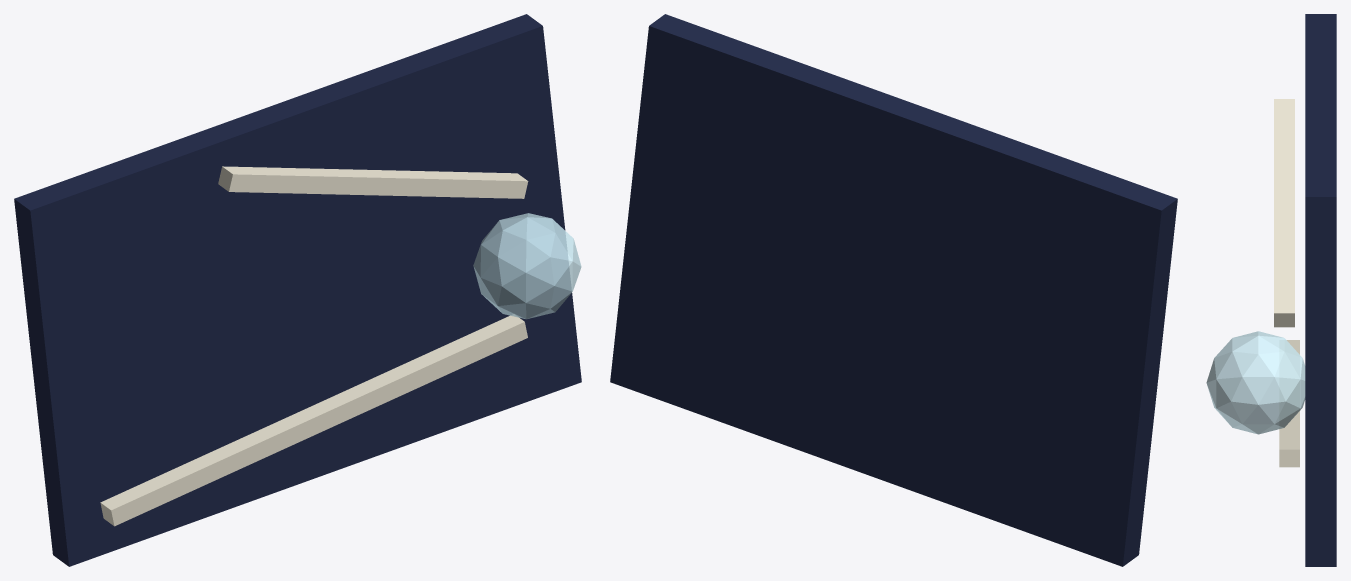
Rendered from 02_world_prop_polish.glb.
3 renders of one model, left to right at view 1: azimuth 30°, elevation 25°; view 2: azimuth 150°, elevation 25°; view 3: azimuth 270°, elevation 25°, orthographic. The views are drawn at different scales.
Parts seen in each view (by area): view 1: object_overlay_plate, edge_wear_a, glow_socket, edge_wear_b; view 2: object_overlay_plate; view 3: object_overlay_plate, glow_socket, edge_wear_b, edge_wear_a.
Part boxes in pixels (bbox=[...]): object_overlay_plate: bbox=[14, 14, 581, 566]; edge_wear_a: bbox=[100, 315, 527, 526]; glow_socket: bbox=[473, 213, 581, 319]; edge_wear_b: bbox=[218, 166, 528, 198]; object_overlay_plate: bbox=[610, 14, 1177, 566]; object_overlay_plate: bbox=[1305, 14, 1336, 566]; glow_socket: bbox=[1206, 331, 1305, 434]; edge_wear_b: bbox=[1274, 99, 1294, 327]; edge_wear_a: bbox=[1279, 340, 1299, 467].
Bounding box in the file's own units: 1.18 × 0.867 × 0.25.
